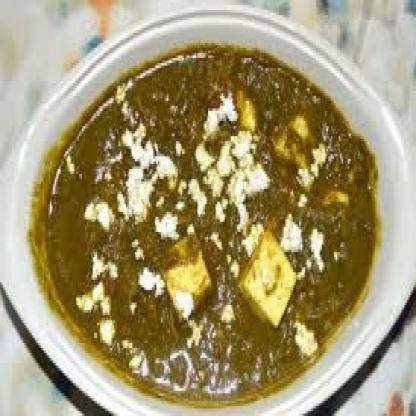palak_paneer: (46, 46, 376, 401)
